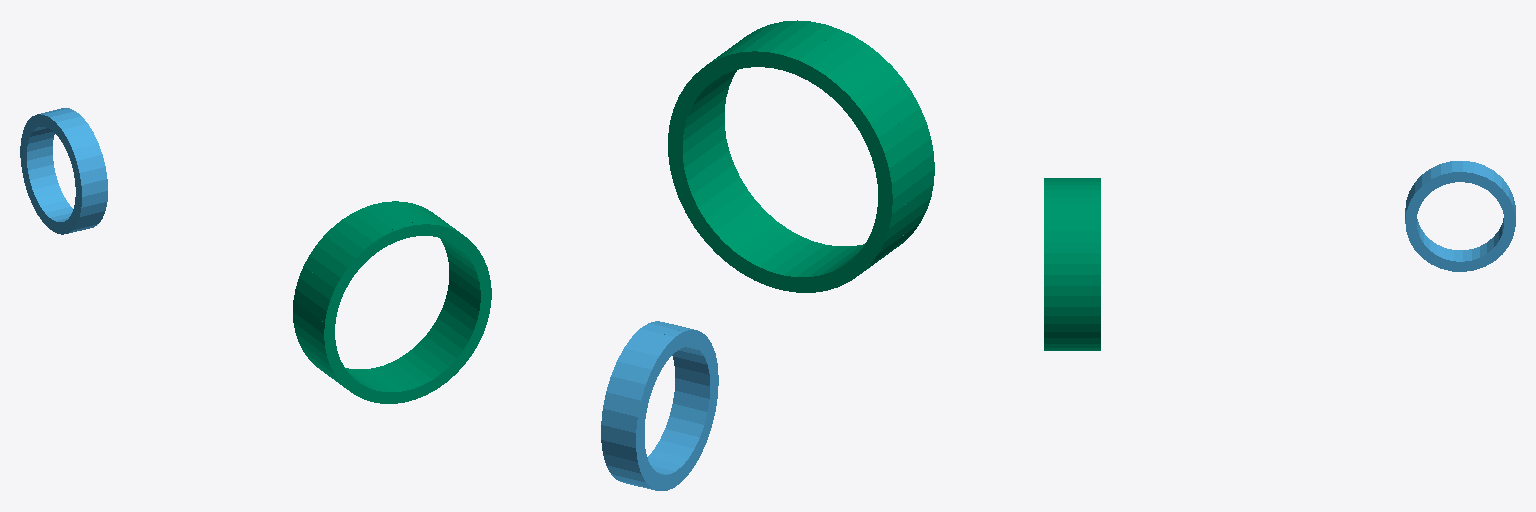
--- Render facts (derived) ---
The picture shows the robot from 3 angles, left to right: view 1: azimuth 30°, elevation 25°; view 2: azimuth 150°, elevation 25°; view 3: azimuth 270°, elevation 25°; orthographic projection.
Robot: satellite — 3 links, 2 joints (2 fixed); root link satellite; default pose: all joints at 0.
Links seen in each view (by area): view 1: base_ring, ring1; view 2: base_ring, ring1; view 3: base_ring, ring1.
Boxes of the visible links, box(x1,y1,x2,y2) form: base_ring: box(293, 201, 491, 403); ring1: box(20, 108, 107, 234); base_ring: box(668, 20, 934, 292); ring1: box(601, 321, 718, 490); base_ring: box(1044, 178, 1100, 350); ring1: box(1405, 161, 1515, 271).
Bounding box of the posed robot: 0.9578 × 2.1 × 0.7713 m (x, y, z).
0 mesh visuals loaded from 1 distinct referenced files (none loaded); not drawn: 1 (reference not matched to a file when rendering).

URDF robot description (satellite):
  
<robot name="satellite">
  <material name="metal_grey">
    <color rgba="0.501960784313725 0.501960784313725 0.501960784313725 1"/>
  </material>
  <link name="satellite">
    <inertial>
      <mass value="100" />
      <!-- center of mass (com) is defined w.r.t. link local coordinate system -->
      <!-- give a little y-offset to make the top precess -->
      <origin xyz="0 0.0 0" /> 
      <inertia  ixx=" 57.4167" ixy="0.0"  ixz="0.0"  iyy="64.0833"  iyz="0.0"  izz="17.3333" />
    </inertial>
       <visual>
      <origin xyz="0 0 0" rpy="1.5708 3.141592 3.141592" />
      <geometry>
        <mesh filename="meshes/visual/SATELLITE_VISUAL.obj"  />
      </geometry>
    </visual>

    <collision>
      <origin xyz="0 -0.33555 0" /> 
      <!--
      <geometry>
        <mesh filename="meshes/visual/SATELLITE_VISUAL.obj"/>
      </geometry>
      -->
   <geometry>
       <box size="0.8 2.5 1.2" />
     </geometry>
    </collision>
  </link>
<link name="ring1">
 <inertial>
     <mass value="0" />
      <!-- center of mass (com) is defined w.r.t. link local coordinate system -->
      <!-- give a little y-offset to make the top precess -->
      <origin xyz="0 -0.512734 0" /> 
      <inertia  ixx="0.0" ixy="0.0"  ixz="0.0"  iyy="0.0"  iyz="0.0"  izz="0.0" />
    </inertial>
<visual> <origin xyz=' 0 0.22 0 ' rpy = '0 0  0'/> 	   <geometry><box size='0.12 0.05 0.05' /></geometry> </visual> 
<visual> <origin xyz=' 0 0.2155 0.044286 ' rpy = '0.20268 0  0'/> 	   <geometry><box size='0.12 0.05 0.05' /></geometry> </visual> 
<visual> <origin xyz=' 0 0.20217 0.086758 ' rpy = '0.40537 0  0'/> 	   <geometry><box size='0.12 0.05 0.05' /></geometry> </visual> 
<visual> <origin xyz=' 0 0.18057 0.12568 ' rpy = '0.60805 0  0'/> 	   <geometry><box size='0.12 0.05 0.05' /></geometry> </visual> 
<visual> <origin xyz=' 0 0.15157 0.15945 ' rpy = '0.81073 0  0'/> 	   <geometry><box size='0.12 0.05 0.05' /></geometry> </visual> 
<visual> <origin xyz=' 0 0.11637 0.1867 ' rpy = '1.0134 0  0'/> 	   <geometry><box size='0.12 0.05 0.05' /></geometry> </visual> 
<visual> <origin xyz=' 0 0.076407 0.20631 ' rpy = '1.2161 0  0'/> 	   <geometry><box size='0.12 0.05 0.05' /></geometry> </visual> 
<visual> <origin xyz=' 0 0.033314 0.21746 ' rpy = '1.4188 0  0'/> 	   <geometry><box size='0.12 0.05 0.05' /></geometry> </visual> 
<visual> <origin xyz=' 0 -0.011143 0.21972 ' rpy = '1.6215 0  0'/> 	   <geometry><box size='0.12 0.05 0.05' /></geometry> </visual> 
<visual> <origin xyz=' 0 -0.055144 0.21298 ' rpy = '1.8242 0  0'/> 	   <geometry><box size='0.12 0.05 0.05' /></geometry> </visual> 
<visual> <origin xyz=' 0 -0.096887 0.19752 ' rpy = '2.0268 0  0'/> 	   <geometry><box size='0.12 0.05 0.05' /></geometry> </visual> 
<visual> <origin xyz=' 0 -0.13466 0.17397 ' rpy = '2.2295 0  0'/> 	   <geometry><box size='0.12 0.05 0.05' /></geometry> </visual> 
<visual> <origin xyz=' 0 -0.16693 0.1433 ' rpy = '2.4322 0  0'/> 	   <geometry><box size='0.12 0.05 0.05' /></geometry> </visual> 
<visual> <origin xyz=' 0 -0.19236 0.10677 ' rpy = '2.6349 0  0'/> 	   <geometry><box size='0.12 0.05 0.05' /></geometry> </visual> 
<visual> <origin xyz=' 0 -0.20991 0.06586 ' rpy = '2.8376 0  0'/> 	   <geometry><box size='0.12 0.05 0.05' /></geometry> </visual> 
<visual> <origin xyz=' 0 -0.21887 0.022257 ' rpy = '3.0403 0  0'/> 	   <geometry><box size='0.12 0.05 0.05' /></geometry> </visual> 
<visual> <origin xyz=' 0 -0.21887 -0.022257 ' rpy = '3.2429 0  0'/> 	   <geometry><box size='0.12 0.05 0.05' /></geometry> </visual> 
<visual> <origin xyz=' 0 -0.20991 -0.06586 ' rpy = '3.4456 0  0'/> 	   <geometry><box size='0.12 0.05 0.05' /></geometry> </visual> 
<visual> <origin xyz=' 0 -0.19236 -0.10677 ' rpy = '3.6483 0  0'/> 	   <geometry><box size='0.12 0.05 0.05' /></geometry> </visual> 
<visual> <origin xyz=' 0 -0.16693 -0.1433 ' rpy = '3.851 0  0'/> 	   <geometry><box size='0.12 0.05 0.05' /></geometry> </visual> 
<visual> <origin xyz=' 0 -0.13466 -0.17397 ' rpy = '4.0537 0  0'/> 	   <geometry><box size='0.12 0.05 0.05' /></geometry> </visual> 
<visual> <origin xyz=' 0 -0.096887 -0.19752 ' rpy = '4.2564 0  0'/> 	   <geometry><box size='0.12 0.05 0.05' /></geometry> </visual> 
<visual> <origin xyz=' 0 -0.055144 -0.21298 ' rpy = '4.459 0  0'/> 	   <geometry><box size='0.12 0.05 0.05' /></geometry> </visual> 
<visual> <origin xyz=' 0 -0.011143 -0.21972 ' rpy = '4.6617 0  0'/> 	   <geometry><box size='0.12 0.05 0.05' /></geometry> </visual> 
<visual> <origin xyz=' 0 0.033314 -0.21746 ' rpy = '4.8644 0  0'/> 	   <geometry><box size='0.12 0.05 0.05' /></geometry> </visual> 
<visual> <origin xyz=' 0 0.076407 -0.20631 ' rpy = '5.0671 0  0'/> 	   <geometry><box size='0.12 0.05 0.05' /></geometry> </visual> 
<visual> <origin xyz=' 0 0.11637 -0.1867 ' rpy = '5.2698 0  0'/> 	   <geometry><box size='0.12 0.05 0.05' /></geometry> </visual> 
<visual> <origin xyz=' 0 0.15157 -0.15945 ' rpy = '5.4725 0  0'/> 	   <geometry><box size='0.12 0.05 0.05' /></geometry> </visual> 
<visual> <origin xyz=' 0 0.18057 -0.12568 ' rpy = '5.6751 0  0'/> 	   <geometry><box size='0.12 0.05 0.05' /></geometry> </visual> 
<visual> <origin xyz=' 0 0.20217 -0.086758 ' rpy = '5.8778 0  0'/> 	   <geometry><box size='0.12 0.05 0.05' /></geometry> </visual> 
<visual> <origin xyz=' 0 0.2155 -0.044286 ' rpy = '6.0805 0  0'/> 	   <geometry><box size='0.12 0.05 0.05' /></geometry> </visual> 
<visual> <origin xyz=' 0 0.22 -5.3884e-17 ' rpy = '6.2832 0  0'/> 	   <geometry><box size='0.12 0.05 0.05' /></geometry> </visual>   
<collision> <origin xyz=' 0 0.22 0 ' rpy = '0 0  0'/> 	   <geometry><box size='0.12 0.05 0.05' /></geometry> </collision> 
<collision> <origin xyz=' 0 0.2155 0.044286 ' rpy = '0.20268 0  0'/> 	   <geometry><box size='0.12 0.05 0.05' /></geometry> </collision> 
<collision> <origin xyz=' 0 0.20217 0.086758 ' rpy = '0.40537 0  0'/> 	   <geometry><box size='0.12 0.05 0.05' /></geometry> </collision> 
<collision> <origin xyz=' 0 0.18057 0.12568 ' rpy = '0.60805 0  0'/> 	   <geometry><box size='0.12 0.05 0.05' /></geometry> </collision> 
<collision> <origin xyz=' 0 0.15157 0.15945 ' rpy = '0.81073 0  0'/> 	   <geometry><box size='0.12 0.05 0.05' /></geometry> </collision> 
<collision> <origin xyz=' 0 0.11637 0.1867 ' rpy = '1.0134 0  0'/> 	   <geometry><box size='0.12 0.05 0.05' /></geometry> </collision> 
<collision> <origin xyz=' 0 0.076407 0.20631 ' rpy = '1.2161 0  0'/> 	   <geometry><box size='0.12 0.05 0.05' /></geometry> </collision> 
<collision> <origin xyz=' 0 0.033314 0.21746 ' rpy = '1.4188 0  0'/> 	   <geometry><box size='0.12 0.05 0.05' /></geometry> </collision> 
<collision> <origin xyz=' 0 -0.011143 0.21972 ' rpy = '1.6215 0  0'/> 	   <geometry><box size='0.12 0.05 0.05' /></geometry> </collision> 
<collision> <origin xyz=' 0 -0.055144 0.21298 ' rpy = '1.8242 0  0'/> 	   <geometry><box size='0.12 0.05 0.05' /></geometry> </collision> 
<collision> <origin xyz=' 0 -0.096887 0.19752 ' rpy = '2.0268 0  0'/> 	   <geometry><box size='0.12 0.05 0.05' /></geometry> </collision> 
<collision> <origin xyz=' 0 -0.13466 0.17397 ' rpy = '2.2295 0  0'/> 	   <geometry><box size='0.12 0.05 0.05' /></geometry> </collision> 
<collision> <origin xyz=' 0 -0.16693 0.1433 ' rpy = '2.4322 0  0'/> 	   <geometry><box size='0.12 0.05 0.05' /></geometry> </collision> 
<collision> <origin xyz=' 0 -0.19236 0.10677 ' rpy = '2.6349 0  0'/> 	   <geometry><box size='0.12 0.05 0.05' /></geometry> </collision> 
<collision> <origin xyz=' 0 -0.20991 0.06586 ' rpy = '2.8376 0  0'/> 	   <geometry><box size='0.12 0.05 0.05' /></geometry> </collision> 
<collision> <origin xyz=' 0 -0.21887 0.022257 ' rpy = '3.0403 0  0'/> 	   <geometry><box size='0.12 0.05 0.05' /></geometry> </collision> 
<collision> <origin xyz=' 0 -0.21887 -0.022257 ' rpy = '3.2429 0  0'/> 	   <geometry><box size='0.12 0.05 0.05' /></geometry> </collision> 
<collision> <origin xyz=' 0 -0.20991 -0.06586 ' rpy = '3.4456 0  0'/> 	   <geometry><box size='0.12 0.05 0.05' /></geometry> </collision> 
<collision> <origin xyz=' 0 -0.19236 -0.10677 ' rpy = '3.6483 0  0'/> 	   <geometry><box size='0.12 0.05 0.05' /></geometry> </collision> 
<collision> <origin xyz=' 0 -0.16693 -0.1433 ' rpy = '3.851 0  0'/> 	   <geometry><box size='0.12 0.05 0.05' /></geometry> </collision> 
<collision> <origin xyz=' 0 -0.13466 -0.17397 ' rpy = '4.0537 0  0'/> 	   <geometry><box size='0.12 0.05 0.05' /></geometry> </collision> 
<collision> <origin xyz=' 0 -0.096887 -0.19752 ' rpy = '4.2564 0  0'/> 	   <geometry><box size='0.12 0.05 0.05' /></geometry> </collision> 
<collision> <origin xyz=' 0 -0.055144 -0.21298 ' rpy = '4.459 0  0'/> 	   <geometry><box size='0.12 0.05 0.05' /></geometry> </collision> 
<collision> <origin xyz=' 0 -0.011143 -0.21972 ' rpy = '4.6617 0  0'/> 	   <geometry><box size='0.12 0.05 0.05' /></geometry> </collision> 
<collision> <origin xyz=' 0 0.033314 -0.21746 ' rpy = '4.8644 0  0'/> 	   <geometry><box size='0.12 0.05 0.05' /></geometry> </collision> 
<collision> <origin xyz=' 0 0.076407 -0.20631 ' rpy = '5.0671 0  0'/> 	   <geometry><box size='0.12 0.05 0.05' /></geometry> </collision> 
<collision> <origin xyz=' 0 0.11637 -0.1867 ' rpy = '5.2698 0  0'/> 	   <geometry><box size='0.12 0.05 0.05' /></geometry> </collision> 
<collision> <origin xyz=' 0 0.15157 -0.15945 ' rpy = '5.4725 0  0'/> 	   <geometry><box size='0.12 0.05 0.05' /></geometry> </collision> 
<collision> <origin xyz=' 0 0.18057 -0.12568 ' rpy = '5.6751 0  0'/> 	   <geometry><box size='0.12 0.05 0.05' /></geometry> </collision> 
<collision> <origin xyz=' 0 0.20217 -0.086758 ' rpy = '5.8778 0  0'/> 	   <geometry><box size='0.12 0.05 0.05' /></geometry> </collision> 
<collision> <origin xyz=' 0 0.2155 -0.044286 ' rpy = '6.0805 0  0'/> 	   <geometry><box size='0.12 0.05 0.05' /></geometry> </collision> 
<collision> <origin xyz=' 0 0.22 -5.3884e-17 ' rpy = '6.2832 0  0'/> 	   <geometry><box size='0.12 0.05 0.05' /></geometry> </collision> 
</link>

<link name="base_ring">
 <inertial>
     <mass value="0" />
      <!-- center of mass (com) is defined w.r.t. link local coordinate system -->
      <!-- give a little y-offset to make the top precess -->
      <origin xyz="0 -0.512734 0" /> 
      <inertia  ixx="0.0" ixy="0.0"  ixz="0.0"  iyy="0.0"  iyz="0.0"  izz="0.0" />
    </inertial>
<visual> <origin xyz='0.36 0 0 ' rpy = '0 0 0'/> 	   <geometry><box size='0.05 0.25 0.05' /></geometry> </visual> 
<visual> <origin xyz='0.35704 0 0.046036 ' rpy = '0 -0.12823 0'/> 	   <geometry><box size='0.05 0.25 0.05' /></geometry> </visual> 
<visual> <origin xyz='0.34823 0 0.091316 ' rpy = '0 -0.25646 0'/> 	   <geometry><box size='0.05 0.25 0.05' /></geometry> </visual> 
<visual> <origin xyz='0.33369 0 0.1351 ' rpy = '0 -0.38468 0'/> 	   <geometry><box size='0.05 0.25 0.05' /></geometry> </visual> 
<visual> <origin xyz='0.31367 0 0.17666 ' rpy = '0 -0.51291 0'/> 	   <geometry><box size='0.05 0.25 0.05' /></geometry> </visual> 
<visual> <origin xyz='0.28851 0 0.21532 ' rpy = '0 -0.64114 0'/> 	   <geometry><box size='0.05 0.25 0.05' /></geometry> </visual> 
<visual> <origin xyz='0.25861 0 0.25045 ' rpy = '0 -0.76937 0'/> 	   <geometry><box size='0.05 0.25 0.05' /></geometry> </visual> 
<visual> <origin xyz='0.22446 0 0.28146 ' rpy = '0 -0.8976 0'/> 	   <geometry><box size='0.05 0.25 0.05' /></geometry> </visual> 
<visual> <origin xyz='0.18662 0 0.30785 ' rpy = '0 -1.0258 0'/> 	   <geometry><box size='0.05 0.25 0.05' /></geometry> </visual> 
<visual> <origin xyz='0.14572 0 0.32919 ' rpy = '0 -1.1541 0'/> 	   <geometry><box size='0.05 0.25 0.05' /></geometry> </visual> 
<visual> <origin xyz='0.10243 0 0.34512 ' rpy = '0 -1.2823 0'/> 	   <geometry><box size='0.05 0.25 0.05' /></geometry> </visual> 
<visual> <origin xyz='0.057456 0 0.35539 ' rpy = '0 -1.4105 0'/> 	   <geometry><box size='0.05 0.25 0.05' /></geometry> </visual> 
<visual> <origin xyz='0.011539 0 0.35982 ' rpy = '0 -1.5387 0'/> 	   <geometry><box size='0.05 0.25 0.05' /></geometry> </visual> 
<visual> <origin xyz='-0.034568 0 0.35834 ' rpy = '0 -1.667 0'/> 	   <geometry><box size='0.05 0.25 0.05' /></geometry> </visual> 
<visual> <origin xyz='-0.080108 0 0.35097 ' rpy = '0 -1.7952 0'/> 	   <geometry><box size='0.05 0.25 0.05' /></geometry> </visual> 
<visual> <origin xyz='-0.12433 0 0.33785 ' rpy = '0 -1.9234 0'/> 	   <geometry><box size='0.05 0.25 0.05' /></geometry> </visual> 
<visual> <origin xyz='-0.16651 0 0.31918 ' rpy = '0 -2.0517 0'/> 	   <geometry><box size='0.05 0.25 0.05' /></geometry> </visual> 
<visual> <origin xyz='-0.20596 0 0.29526 ' rpy = '0 -2.1799 0'/> 	   <geometry><box size='0.05 0.25 0.05' /></geometry> </visual> 
<visual> <origin xyz='-0.24203 0 0.2665 ' rpy = '0 -2.3081 0'/> 	   <geometry><box size='0.05 0.25 0.05' /></geometry> </visual> 
<visual> <origin xyz='-0.27412 0 0.23336 ' rpy = '0 -2.4363 0'/> 	   <geometry><box size='0.05 0.25 0.05' /></geometry> </visual> 
<visual> <origin xyz='-0.30171 0 0.19639 ' rpy = '0 -2.5646 0'/> 	   <geometry><box size='0.05 0.25 0.05' /></geometry> </visual> 
<visual> <origin xyz='-0.32435 0 0.1562 ' rpy = '0 -2.6928 0'/> 	   <geometry><box size='0.05 0.25 0.05' /></geometry> </visual> 
<visual> <origin xyz='-0.34166 0 0.11344 ' rpy = '0 -2.821 0'/> 	   <geometry><box size='0.05 0.25 0.05' /></geometry> </visual> 
<visual> <origin xyz='-0.35336 0 0.068817 ' rpy = '0 -2.9493 0'/> 	   <geometry><box size='0.05 0.25 0.05' /></geometry> </visual> 
<visual> <origin xyz='-0.35926 0 0.023065 ' rpy = '0 -3.0775 0'/> 	   <geometry><box size='0.05 0.25 0.05' /></geometry> </visual> 
<visual> <origin xyz='-0.35926 0 -0.023065 ' rpy = '0 -3.2057 0'/> 	   <geometry><box size='0.05 0.25 0.05' /></geometry> </visual> 
<visual> <origin xyz='-0.35336 0 -0.068817 ' rpy = '0 -3.3339 0'/> 	   <geometry><box size='0.05 0.25 0.05' /></geometry> </visual> 
<visual> <origin xyz='-0.34166 0 -0.11344 ' rpy = '0 -3.4622 0'/> 	   <geometry><box size='0.05 0.25 0.05' /></geometry> </visual> 
<visual> <origin xyz='-0.32435 0 -0.1562 ' rpy = '0 -3.5904 0'/> 	   <geometry><box size='0.05 0.25 0.05' /></geometry> </visual> 
<visual> <origin xyz='-0.30171 0 -0.19639 ' rpy = '0 -3.7186 0'/> 	   <geometry><box size='0.05 0.25 0.05' /></geometry> </visual> 
<visual> <origin xyz='-0.27412 0 -0.23336 ' rpy = '0 -3.8468 0'/> 	   <geometry><box size='0.05 0.25 0.05' /></geometry> </visual> 
<visual> <origin xyz='-0.24203 0 -0.2665 ' rpy = '0 -3.9751 0'/> 	   <geometry><box size='0.05 0.25 0.05' /></geometry> </visual> 
<visual> <origin xyz='-0.20596 0 -0.29526 ' rpy = '0 -4.1033 0'/> 	   <geometry><box size='0.05 0.25 0.05' /></geometry> </visual> 
<visual> <origin xyz='-0.16651 0 -0.31918 ' rpy = '0 -4.2315 0'/> 	   <geometry><box size='0.05 0.25 0.05' /></geometry> </visual> 
<visual> <origin xyz='-0.12433 0 -0.33785 ' rpy = '0 -4.3598 0'/> 	   <geometry><box size='0.05 0.25 0.05' /></geometry> </visual> 
<visual> <origin xyz='-0.080108 0 -0.35097 ' rpy = '0 -4.488 0'/> 	   <geometry><box size='0.05 0.25 0.05' /></geometry> </visual> 
<visual> <origin xyz='-0.034568 0 -0.35834 ' rpy = '0 -4.6162 0'/> 	   <geometry><box size='0.05 0.25 0.05' /></geometry> </visual> 
<visual> <origin xyz='0.011539 0 -0.35982 ' rpy = '0 -4.7444 0'/> 	   <geometry><box size='0.05 0.25 0.05' /></geometry> </visual> 
<visual> <origin xyz='0.057456 0 -0.35539 ' rpy = '0 -4.8727 0'/> 	   <geometry><box size='0.05 0.25 0.05' /></geometry> </visual> 
<visual> <origin xyz='0.10243 0 -0.34512 ' rpy = '0 -5.0009 0'/> 	   <geometry><box size='0.05 0.25 0.05' /></geometry> </visual> 
<visual> <origin xyz='0.14572 0 -0.32919 ' rpy = '0 -5.1291 0'/> 	   <geometry><box size='0.05 0.25 0.05' /></geometry> </visual> 
<visual> <origin xyz='0.18662 0 -0.30785 ' rpy = '0 -5.2574 0'/> 	   <geometry><box size='0.05 0.25 0.05' /></geometry> </visual> 
<visual> <origin xyz='0.22446 0 -0.28146 ' rpy = '0 -5.3856 0'/> 	   <geometry><box size='0.05 0.25 0.05' /></geometry> </visual> 
<visual> <origin xyz='0.25861 0 -0.25045 ' rpy = '0 -5.5138 0'/> 	   <geometry><box size='0.05 0.25 0.05' /></geometry> </visual> 
<visual> <origin xyz='0.28851 0 -0.21532 ' rpy = '0 -5.642 0'/> 	   <geometry><box size='0.05 0.25 0.05' /></geometry> </visual> 
<visual> <origin xyz='0.31367 0 -0.17666 ' rpy = '0 -5.7703 0'/> 	   <geometry><box size='0.05 0.25 0.05' /></geometry> </visual> 
<visual> <origin xyz='0.33369 0 -0.1351 ' rpy = '0 -5.8985 0'/> 	   <geometry><box size='0.05 0.25 0.05' /></geometry> </visual> 
<visual> <origin xyz='0.34823 0 -0.091316 ' rpy = '0 -6.0267 0'/> 	   <geometry><box size='0.05 0.25 0.05' /></geometry> </visual> 
<visual> <origin xyz='0.35704 0 -0.046036 ' rpy = '0 -6.155 0'/> 	   <geometry><box size='0.05 0.25 0.05' /></geometry> </visual> 
<visual> <origin xyz='0.36 0 -8.8175e-17 ' rpy = '0 -6.2832 0'/> 	   <geometry><box size='0.05 0.25 0.05' /></geometry> </visual> 
<collision> <origin xyz='0.36 0 0 ' rpy = '0 0 0'/> 	   <geometry><box size='0.05 0.25 0.05' /></geometry> </collision> 
<collision> <origin xyz='0.35704 0 0.046036 ' rpy = '0 -0.12823 0'/> 	   <geometry><box size='0.05 0.25 0.05' /></geometry> </collision> 
<collision> <origin xyz='0.34823 0 0.091316 ' rpy = '0 -0.25646 0'/> 	   <geometry><box size='0.05 0.25 0.05' /></geometry> </collision> 
<collision> <origin xyz='0.33369 0 0.1351 ' rpy = '0 -0.38468 0'/> 	   <geometry><box size='0.05 0.25 0.05' /></geometry> </collision> 
<collision> <origin xyz='0.31367 0 0.17666 ' rpy = '0 -0.51291 0'/> 	   <geometry><box size='0.05 0.25 0.05' /></geometry> </collision> 
<collision> <origin xyz='0.28851 0 0.21532 ' rpy = '0 -0.64114 0'/> 	   <geometry><box size='0.05 0.25 0.05' /></geometry> </collision> 
<collision> <origin xyz='0.25861 0 0.25045 ' rpy = '0 -0.76937 0'/> 	   <geometry><box size='0.05 0.25 0.05' /></geometry> </collision> 
<collision> <origin xyz='0.22446 0 0.28146 ' rpy = '0 -0.8976 0'/> 	   <geometry><box size='0.05 0.25 0.05' /></geometry> </collision> 
<collision> <origin xyz='0.18662 0 0.30785 ' rpy = '0 -1.0258 0'/> 	   <geometry><box size='0.05 0.25 0.05' /></geometry> </collision> 
<collision> <origin xyz='0.14572 0 0.32919 ' rpy = '0 -1.1541 0'/> 	   <geometry><box size='0.05 0.25 0.05' /></geometry> </collision> 
<collision> <origin xyz='0.10243 0 0.34512 ' rpy = '0 -1.2823 0'/> 	   <geometry><box size='0.05 0.25 0.05' /></geometry> </collision> 
<collision> <origin xyz='0.057456 0 0.35539 ' rpy = '0 -1.4105 0'/> 	   <geometry><box size='0.05 0.25 0.05' /></geometry> </collision> 
<collision> <origin xyz='0.011539 0 0.35982 ' rpy = '0 -1.5387 0'/> 	   <geometry><box size='0.05 0.25 0.05' /></geometry> </collision> 
<collision> <origin xyz='-0.034568 0 0.35834 ' rpy = '0 -1.667 0'/> 	   <geometry><box size='0.05 0.25 0.05' /></geometry> </collision> 
<collision> <origin xyz='-0.080108 0 0.35097 ' rpy = '0 -1.7952 0'/> 	   <geometry><box size='0.05 0.25 0.05' /></geometry> </collision> 
<collision> <origin xyz='-0.12433 0 0.33785 ' rpy = '0 -1.9234 0'/> 	   <geometry><box size='0.05 0.25 0.05' /></geometry> </collision> 
<collision> <origin xyz='-0.16651 0 0.31918 ' rpy = '0 -2.0517 0'/> 	   <geometry><box size='0.05 0.25 0.05' /></geometry> </collision> 
<collision> <origin xyz='-0.20596 0 0.29526 ' rpy = '0 -2.1799 0'/> 	   <geometry><box size='0.05 0.25 0.05' /></geometry> </collision> 
<collision> <origin xyz='-0.24203 0 0.2665 ' rpy = '0 -2.3081 0'/> 	   <geometry><box size='0.05 0.25 0.05' /></geometry> </collision> 
<collision> <origin xyz='-0.27412 0 0.23336 ' rpy = '0 -2.4363 0'/> 	   <geometry><box size='0.05 0.25 0.05' /></geometry> </collision> 
<collision> <origin xyz='-0.30171 0 0.19639 ' rpy = '0 -2.5646 0'/> 	   <geometry><box size='0.05 0.25 0.05' /></geometry> </collision> 
<collision> <origin xyz='-0.32435 0 0.1562 ' rpy = '0 -2.6928 0'/> 	   <geometry><box size='0.05 0.25 0.05' /></geometry> </collision> 
<collision> <origin xyz='-0.34166 0 0.11344 ' rpy = '0 -2.821 0'/> 	   <geometry><box size='0.05 0.25 0.05' /></geometry> </collision> 
<collision> <origin xyz='-0.35336 0 0.068817 ' rpy = '0 -2.9493 0'/> 	   <geometry><box size='0.05 0.25 0.05' /></geometry> </collision> 
<collision> <origin xyz='-0.35926 0 0.023065 ' rpy = '0 -3.0775 0'/> 	   <geometry><box size='0.05 0.25 0.05' /></geometry> </collision> 
<collision> <origin xyz='-0.35926 0 -0.023065 ' rpy = '0 -3.2057 0'/> 	   <geometry><box size='0.05 0.25 0.05' /></geometry> </collision> 
<collision> <origin xyz='-0.35336 0 -0.068817 ' rpy = '0 -3.3339 0'/> 	   <geometry><box size='0.05 0.25 0.05' /></geometry> </collision> 
<collision> <origin xyz='-0.34166 0 -0.11344 ' rpy = '0 -3.4622 0'/> 	   <geometry><box size='0.05 0.25 0.05' /></geometry> </collision> 
<collision> <origin xyz='-0.32435 0 -0.1562 ' rpy = '0 -3.5904 0'/> 	   <geometry><box size='0.05 0.25 0.05' /></geometry> </collision> 
<collision> <origin xyz='-0.30171 0 -0.19639 ' rpy = '0 -3.7186 0'/> 	   <geometry><box size='0.05 0.25 0.05' /></geometry> </collision> 
<collision> <origin xyz='-0.27412 0 -0.23336 ' rpy = '0 -3.8468 0'/> 	   <geometry><box size='0.05 0.25 0.05' /></geometry> </collision> 
<collision> <origin xyz='-0.24203 0 -0.2665 ' rpy = '0 -3.9751 0'/> 	   <geometry><box size='0.05 0.25 0.05' /></geometry> </collision> 
<collision> <origin xyz='-0.20596 0 -0.29526 ' rpy = '0 -4.1033 0'/> 	   <geometry><box size='0.05 0.25 0.05' /></geometry> </collision> 
<collision> <origin xyz='-0.16651 0 -0.31918 ' rpy = '0 -4.2315 0'/> 	   <geometry><box size='0.05 0.25 0.05' /></geometry> </collision> 
<collision> <origin xyz='-0.12433 0 -0.33785 ' rpy = '0 -4.3598 0'/> 	   <geometry><box size='0.05 0.25 0.05' /></geometry> </collision> 
<collision> <origin xyz='-0.080108 0 -0.35097 ' rpy = '0 -4.488 0'/> 	   <geometry><box size='0.05 0.25 0.05' /></geometry> </collision> 
<collision> <origin xyz='-0.034568 0 -0.35834 ' rpy = '0 -4.6162 0'/> 	   <geometry><box size='0.05 0.25 0.05' /></geometry> </collision> 
<collision> <origin xyz='0.011539 0 -0.35982 ' rpy = '0 -4.7444 0'/> 	   <geometry><box size='0.05 0.25 0.05' /></geometry> </collision> 
<collision> <origin xyz='0.057456 0 -0.35539 ' rpy = '0 -4.8727 0'/> 	   <geometry><box size='0.05 0.25 0.05' /></geometry> </collision> 
<collision> <origin xyz='0.10243 0 -0.34512 ' rpy = '0 -5.0009 0'/> 	   <geometry><box size='0.05 0.25 0.05' /></geometry> </collision> 
<collision> <origin xyz='0.14572 0 -0.32919 ' rpy = '0 -5.1291 0'/> 	   <geometry><box size='0.05 0.25 0.05' /></geometry> </collision> 
<collision> <origin xyz='0.18662 0 -0.30785 ' rpy = '0 -5.2574 0'/> 	   <geometry><box size='0.05 0.25 0.05' /></geometry> </collision> 
<collision> <origin xyz='0.22446 0 -0.28146 ' rpy = '0 -5.3856 0'/> 	   <geometry><box size='0.05 0.25 0.05' /></geometry> </collision> 
<collision> <origin xyz='0.25861 0 -0.25045 ' rpy = '0 -5.5138 0'/> 	   <geometry><box size='0.05 0.25 0.05' /></geometry> </collision> 
<collision> <origin xyz='0.28851 0 -0.21532 ' rpy = '0 -5.642 0'/> 	   <geometry><box size='0.05 0.25 0.05' /></geometry> </collision> 
<collision> <origin xyz='0.31367 0 -0.17666 ' rpy = '0 -5.7703 0'/> 	   <geometry><box size='0.05 0.25 0.05' /></geometry> </collision> 
<collision> <origin xyz='0.33369 0 -0.1351 ' rpy = '0 -5.8985 0'/> 	   <geometry><box size='0.05 0.25 0.05' /></geometry> </collision> 
<collision> <origin xyz='0.34823 0 -0.091316 ' rpy = '0 -6.0267 0'/> 	   <geometry><box size='0.05 0.25 0.05' /></geometry> </collision> 
<collision> <origin xyz='0.35704 0 -0.046036 ' rpy = '0 -6.155 0'/> 	   <geometry><box size='0.05 0.25 0.05' /></geometry> </collision> 
<collision> <origin xyz='0.36 0 -8.8175e-17 ' rpy = '0 -6.2832 0'/> 	   <geometry><box size='0.05 0.25 0.05' /></geometry> </collision> 
</link>

  <joint name="ring1_fixed" type="fixed">
    <origin xyz="-0.51273 0 0" rpy="0 0 0" />
    <parent link="satellite" />
    <child link="ring1" />
  </joint>
  
    <joint name="base_ring_fixed" type="fixed">
    <origin xyz="0 -1.7282  0" rpy="0 0 0" />
    <parent link="satellite" />
    <child link="base_ring" />
  </joint>
</robot>
